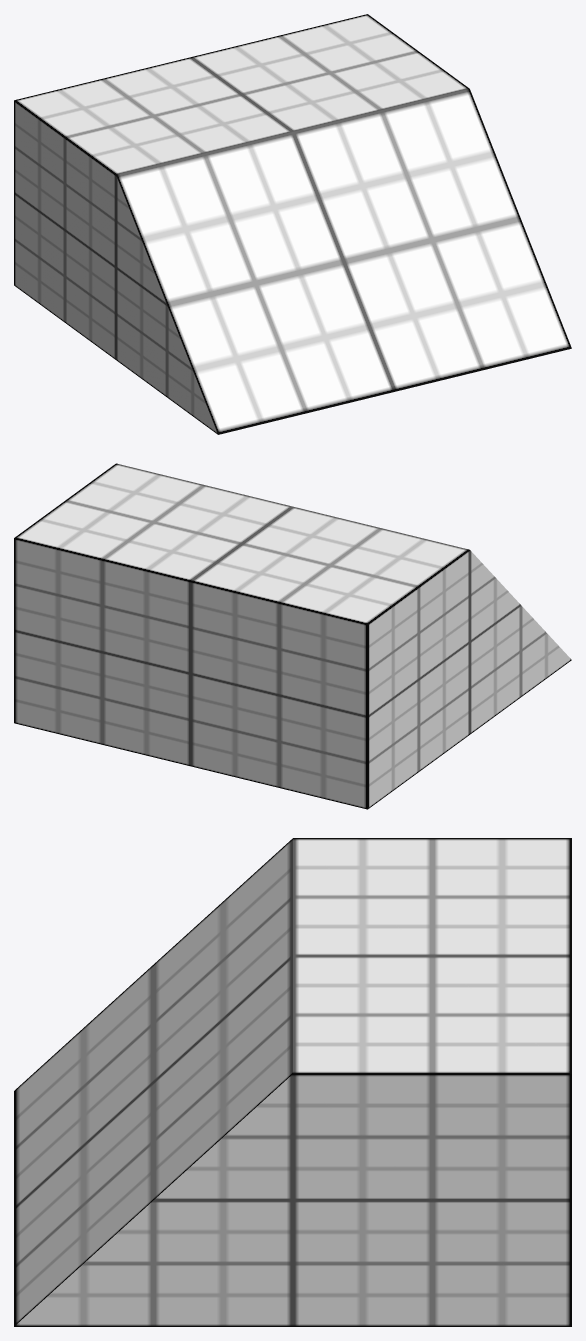
Rendered from steep-slope-btm.fbx.
3 renders of one model, top to bottom at view 1: azimuth 30°, elevation 25°; view 2: azimuth 150°, elevation 25°; view 3: azimuth 270°, elevation 25°, orthographic. The views are drawn at different scales.
Visible parts, largest first — view 1: Yplus, Xminus; view 2: Zminus, Yplus, Xminus; view 3: Yplus, Xplus.
Boxes of the visible parts, box(x1,y1,x2,y2) form: Yplus: box(14, 14, 571, 434); Xminus: box(14, 100, 217, 434); Zminus: box(14, 538, 367, 809); Yplus: box(14, 463, 469, 624); Xminus: box(367, 550, 571, 809); Yplus: box(14, 838, 571, 1326); Xplus: box(14, 1074, 571, 1326).
Bounding box in the file's own units: 100 × 50 × 100.
